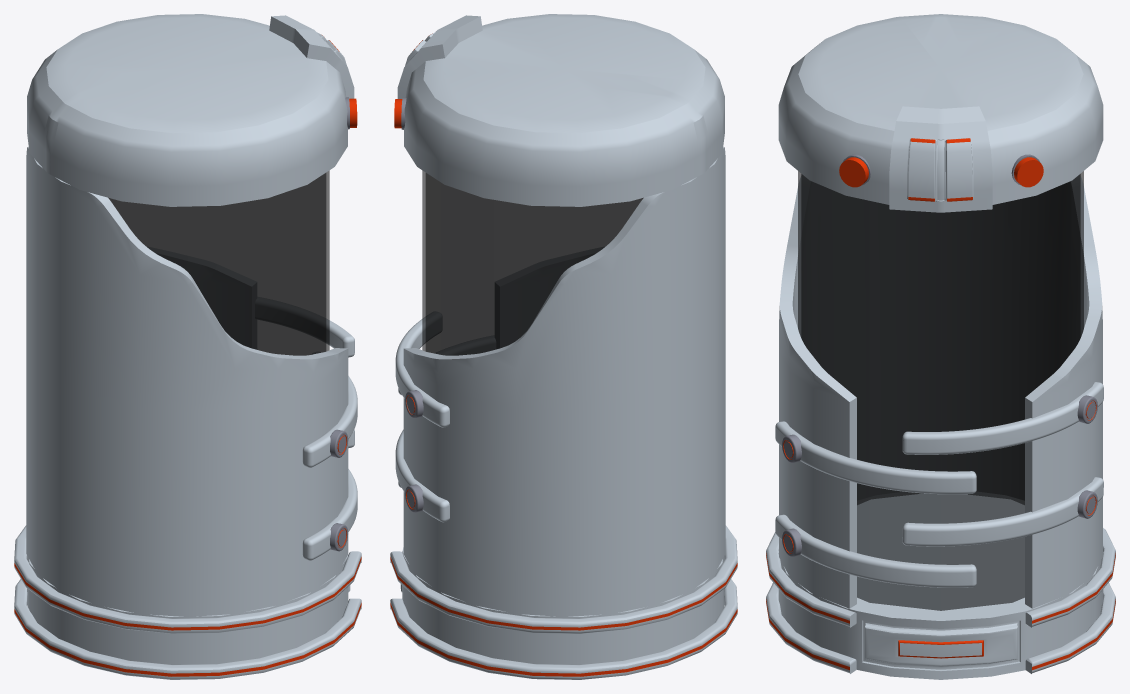
File: capsule-idel.fbx
3 views of the same model, side by side, from view 1: azimuth 30°, elevation 25°; view 2: azimuth 150°, elevation 25°; view 3: azimuth 270°, elevation 25° (orthographic).
Parts seen in each view (by area): view 1: Base, pCylinder4, Glass1, pCylinder2, pPipe2, pPipe1, metal1, metal4, metal2; view 2: Base, pCylinder4, Glass1, pCylinder2, pPipe2, pPipe1, metal1, metal3, metal2; view 3: Base, Glass1, pCylinder4, pCylinder2, metal4, metal2, metal3, metal1, pPipe2, pPipe1, Lamp2, Lamp1.
Boxes of the visible parts, box(x1,y1,x2,y2) form: Base: box(26, 147, 348, 616); pCylinder4: box(27, 14, 354, 206); Glass1: box(108, 170, 329, 355); pCylinder2: box(27, 554, 350, 664); pPipe2: box(14, 525, 361, 633); pPipe1: box(14, 579, 361, 679); metal1: box(255, 297, 354, 357); metal4: box(302, 469, 357, 560); metal2: box(302, 352, 357, 467); Base: box(403, 147, 725, 616); pCylinder4: box(397, 14, 724, 206); Glass1: box(422, 170, 643, 355); pCylinder2: box(400, 547, 724, 664); pPipe2: box(390, 525, 737, 633); pPipe1: box(390, 579, 737, 679); metal1: box(395, 312, 449, 427); metal3: box(395, 429, 449, 522); metal2: box(398, 336, 495, 395); Base: box(779, 175, 1102, 608); Glass1: box(798, 171, 1083, 610); pCylinder4: box(778, 14, 1103, 212); pCylinder2: box(778, 492, 1103, 679); metal4: box(775, 514, 976, 587); metal2: box(775, 421, 976, 494); metal3: box(902, 477, 1103, 546); metal1: box(902, 382, 1103, 454); pPipe2: box(766, 528, 1115, 627); pPipe1: box(766, 582, 1115, 673); Lamp2: box(1011, 154, 1043, 187); Lamp1: box(839, 154, 870, 187).
Size of the model in its own units: 5.38 by 9.44 by 5.39.
